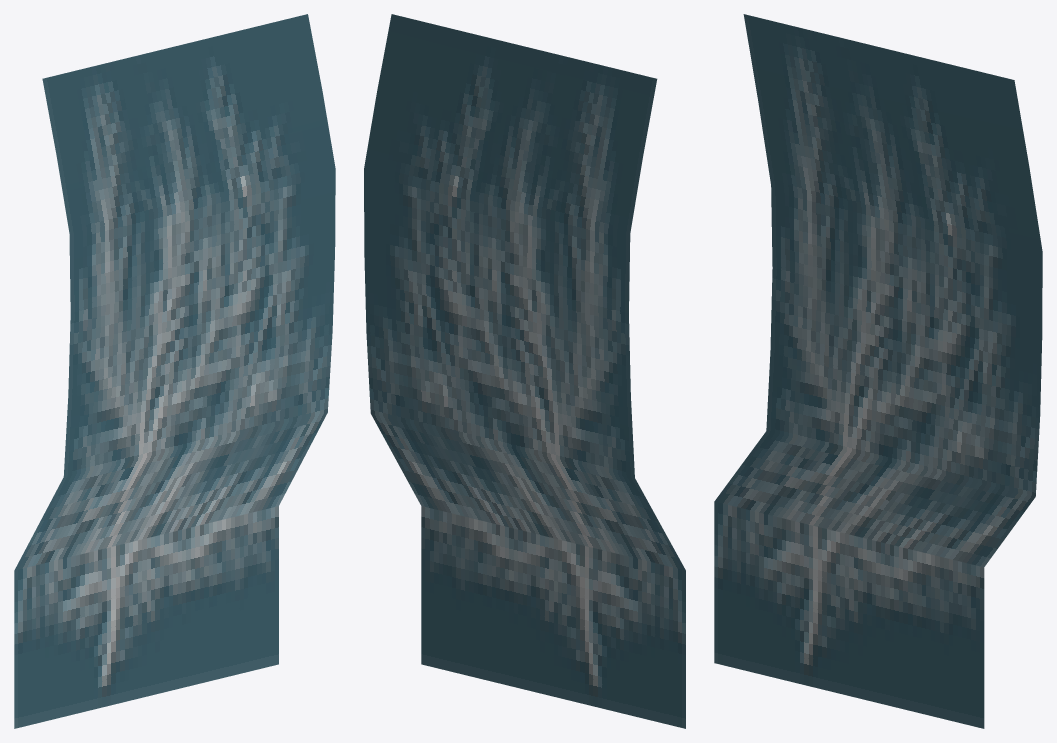
The model's file is Seaweed.FBX.
3 views of the same model, side by side, from view 1: azimuth 30°, elevation 25°; view 2: azimuth 150°, elevation 25°; view 3: azimuth 330°, elevation 25° (orthographic). The views are drawn at different scales.
Parts seen in each view (by area): view 1: Grasses; view 2: Grasses; view 3: Grasses.
Boxes of the visible parts, x1=… form: Grasses: x1=14, y1=14, x2=335, y2=728; Grasses: x1=364, y1=14, x2=685, y2=728; Grasses: x1=714, y1=14, x2=1042, y2=728.
Size of the model in its own units: 4.03 by 7.71 by 0.0173.
